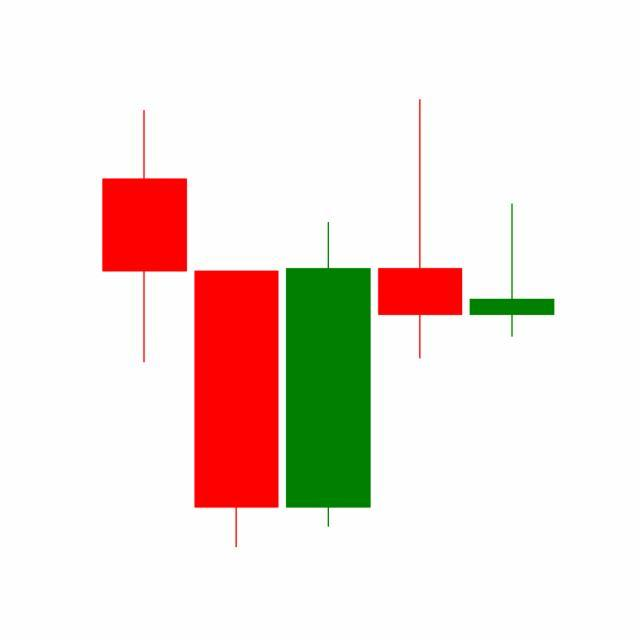Gravestone Doji: (466, 203, 559, 340)
